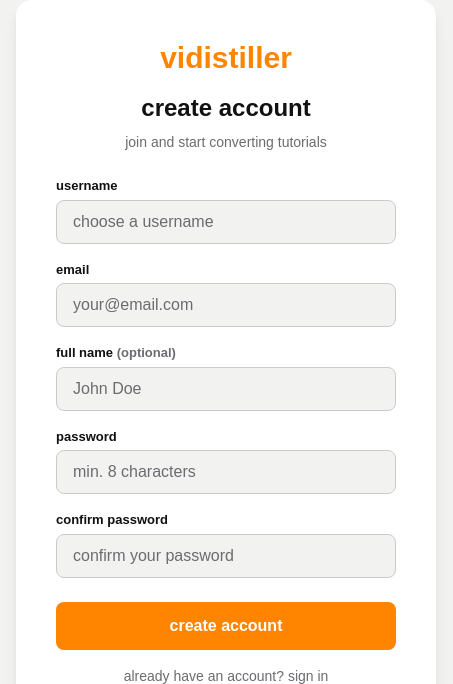
Test: RegisterPage error display › does not display raw JSON in error output
Type "testuser" into the field labelled "username" at (226, 222), box [56,200,396,244]
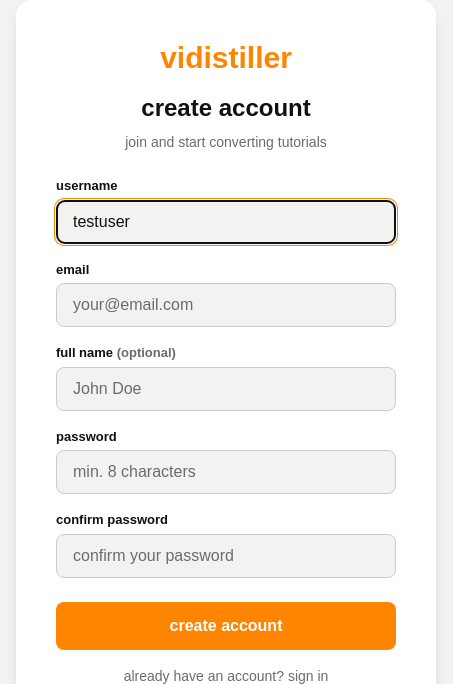
Type "test@example.com" into the field labelled "email" at (226, 305), box [56,283,396,327]
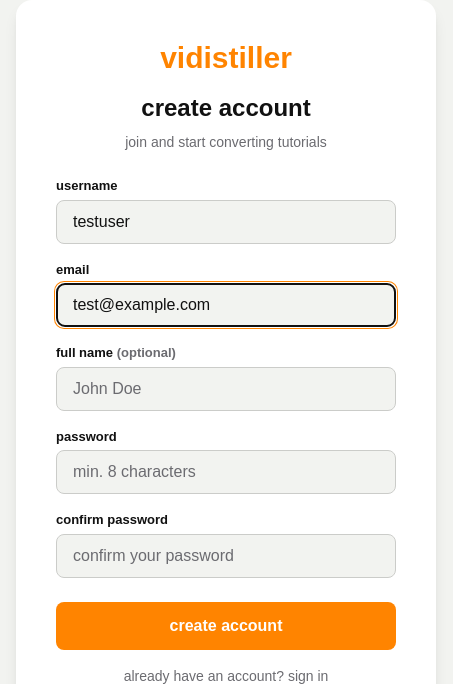
Type "Aa1short" into the password field labelled "password" at (226, 472), box [56,450,396,494]
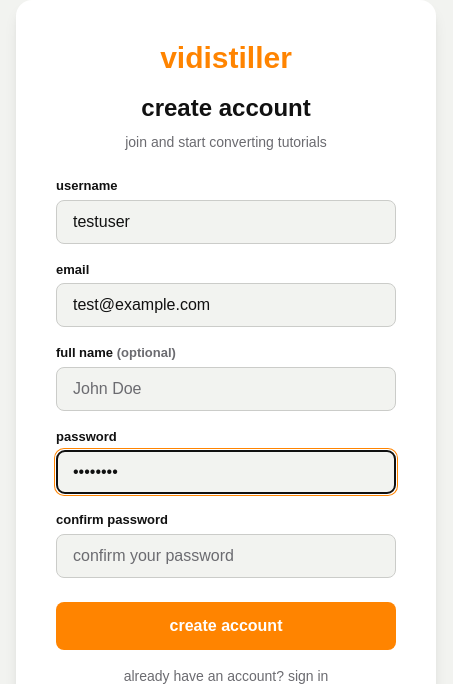
Type "Aa1short" into the password field labelled "confirm password" at (226, 556), box [56,534,396,578]
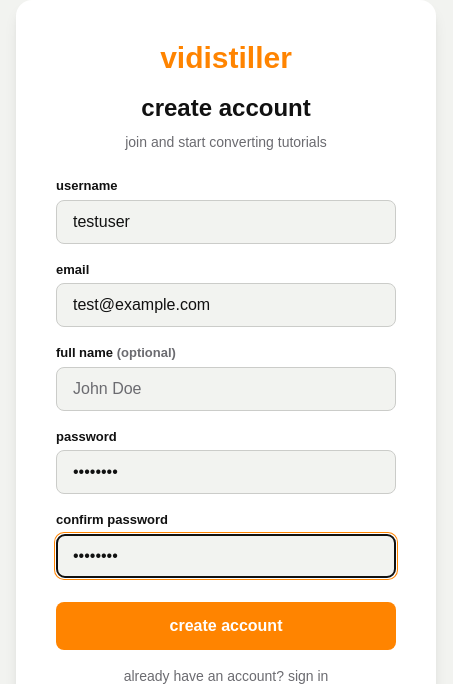
Click the button "create account" at (226, 626), box [56,602,396,650]
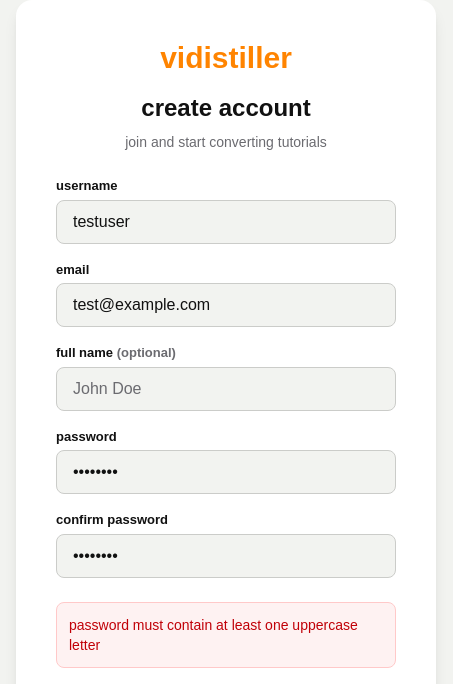
Check: the text "Password must contain at least one uppercase letter" is shown, box [56,602,396,668]
